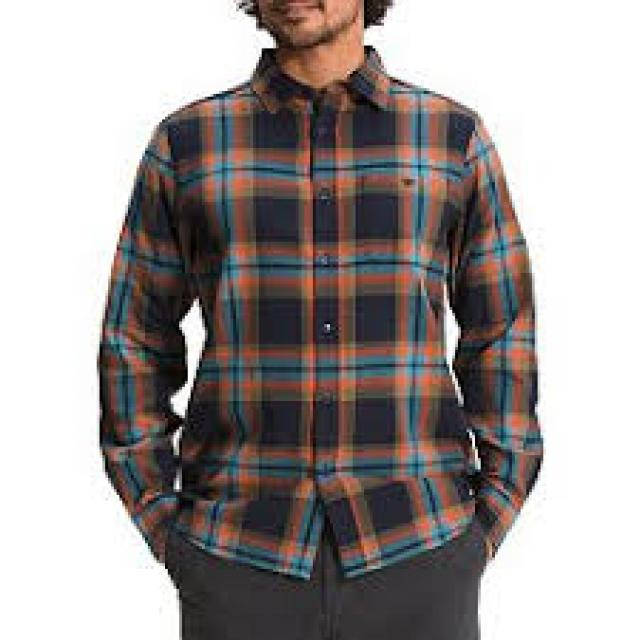plaid: (87, 63, 546, 581)
